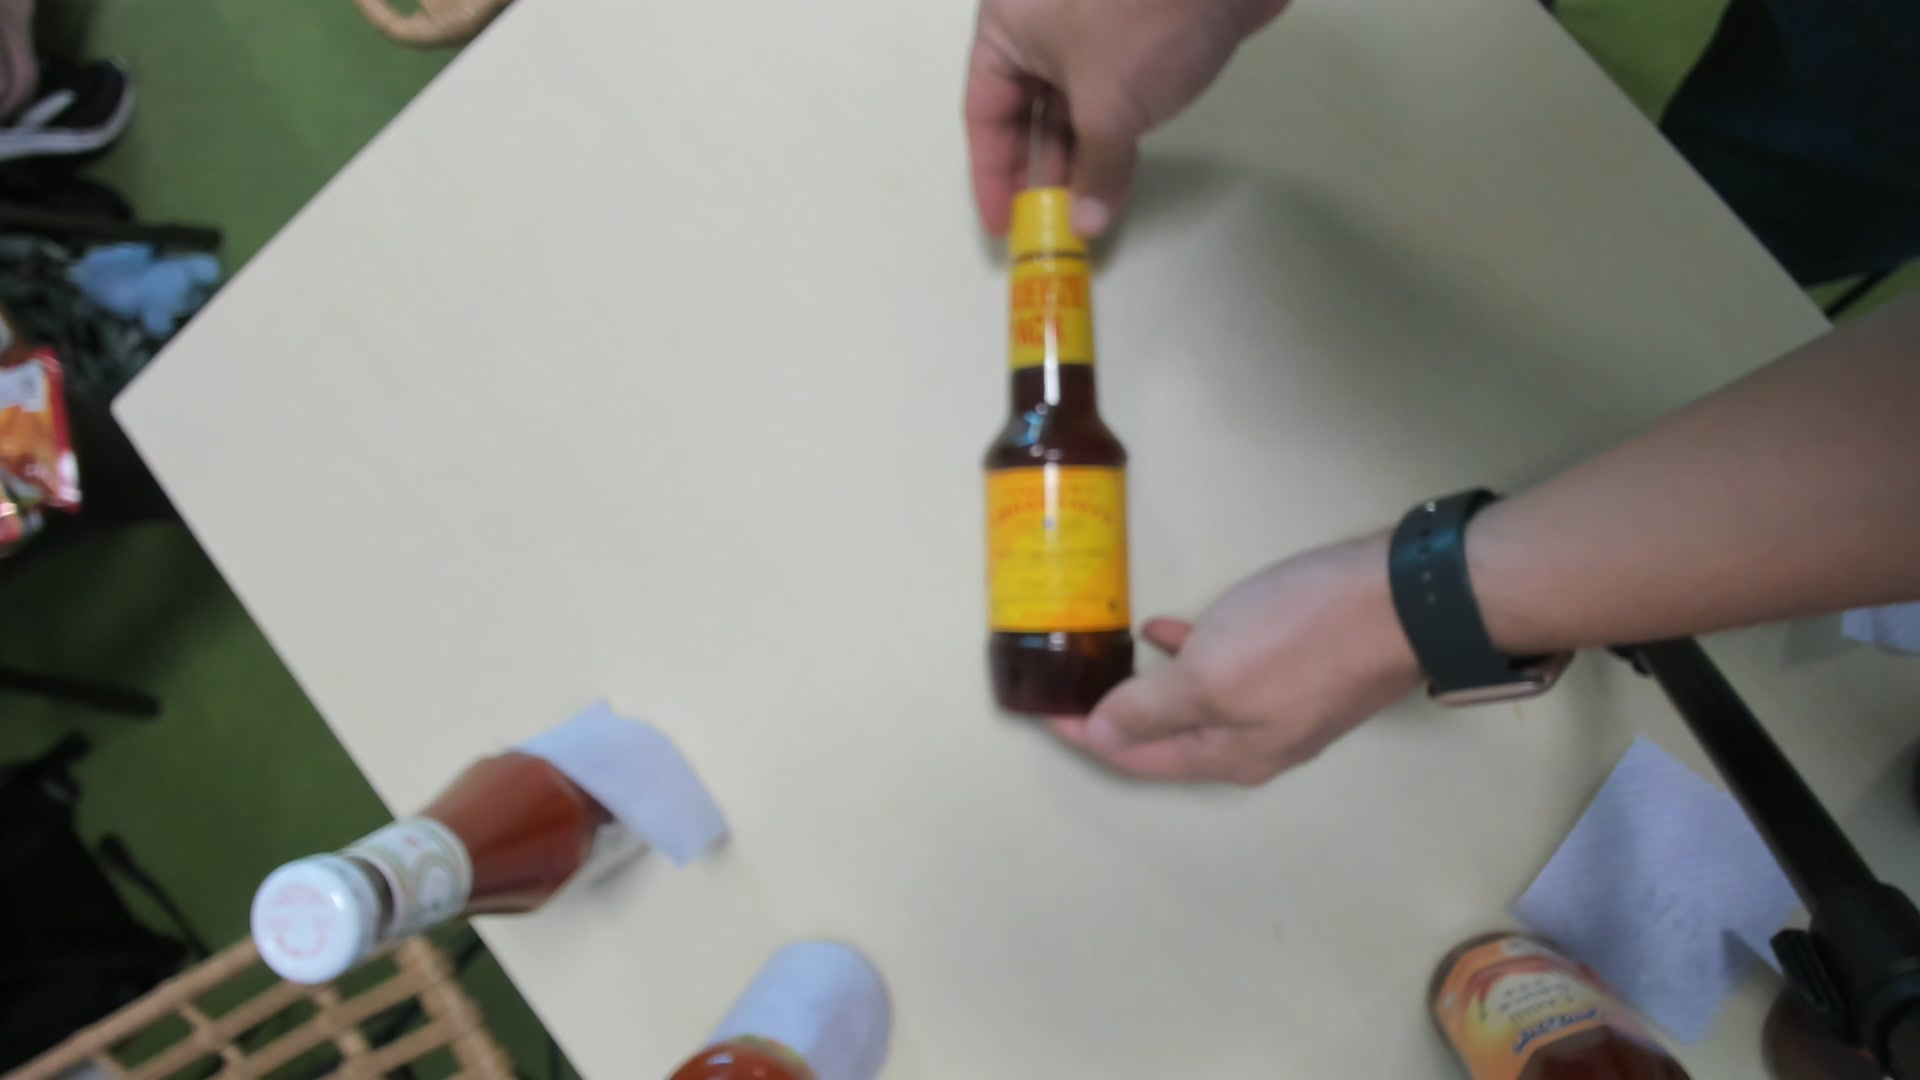KetchupChillSauce_300-399g_Halal_NonHealthy: (982, 189, 1138, 709)
